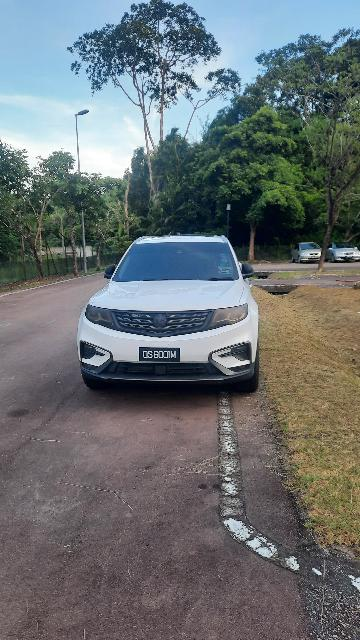License_Plate: (137, 345, 183, 368)
car: (78, 233, 261, 397)
